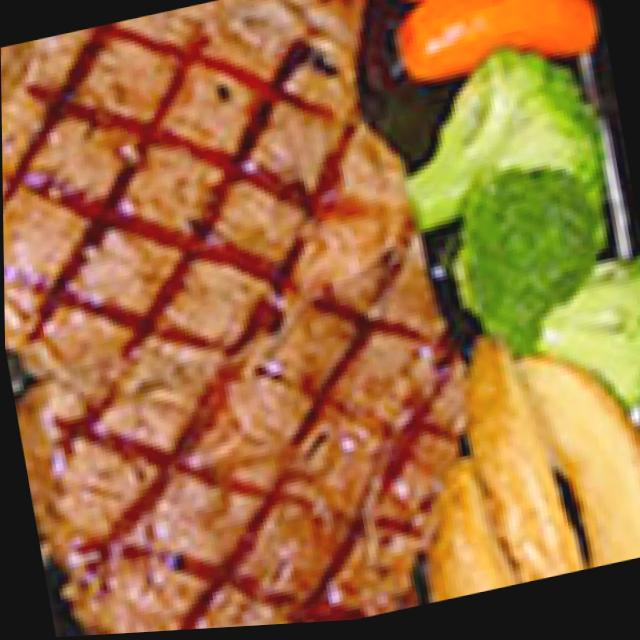牛肉菜式: (0, 0, 495, 640)
